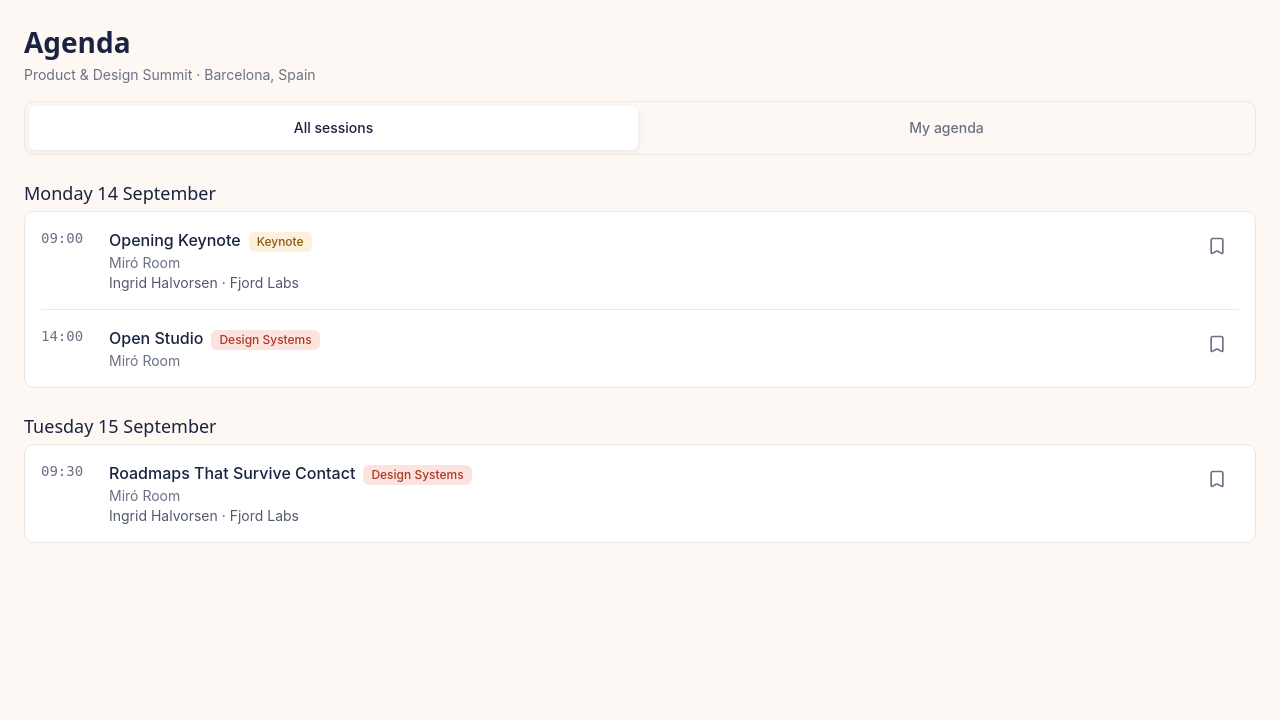
Test: the note status › IGNORES a stale response that arrives after a newer one (FR-214, T048)
Click the link "Opening Keynote" at (175, 240), box top-left (109, 230), bottom-right (241, 250)
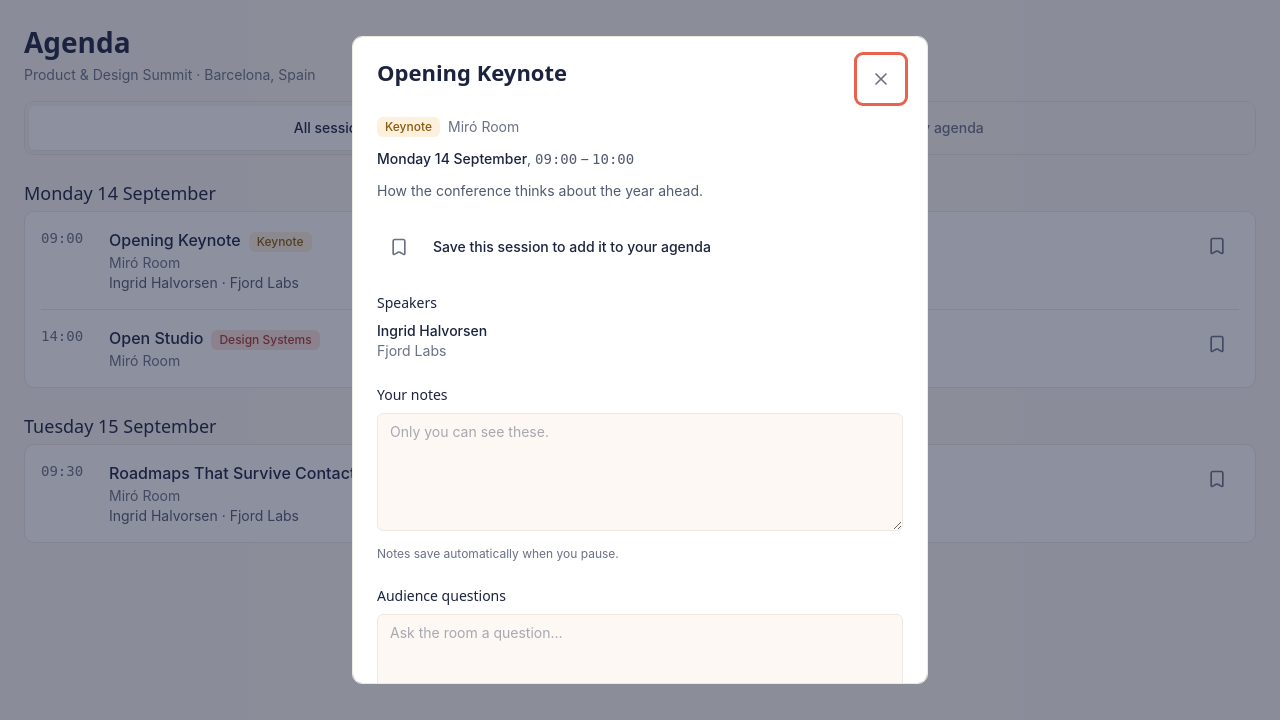
Expected: the heading "Opening Keynote" is shown, top-left (377, 57), bottom-right (567, 88)
Type "First version." into the text box named "private notes" at (640, 472), box top-left (377, 413), bottom-right (903, 531)
Wait 1300 ms
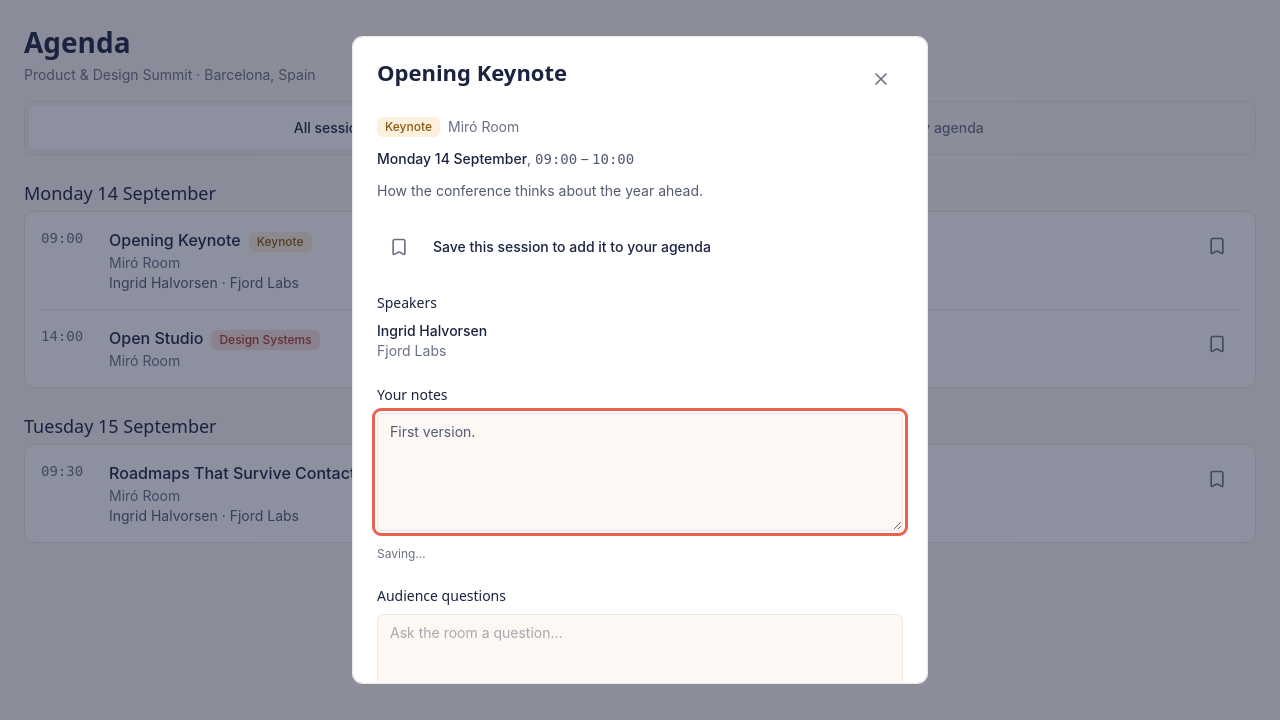
Type " Second version." into the text box named "private notes" at (640, 472), box top-left (377, 413), bottom-right (903, 531)
Wait 1300 ms
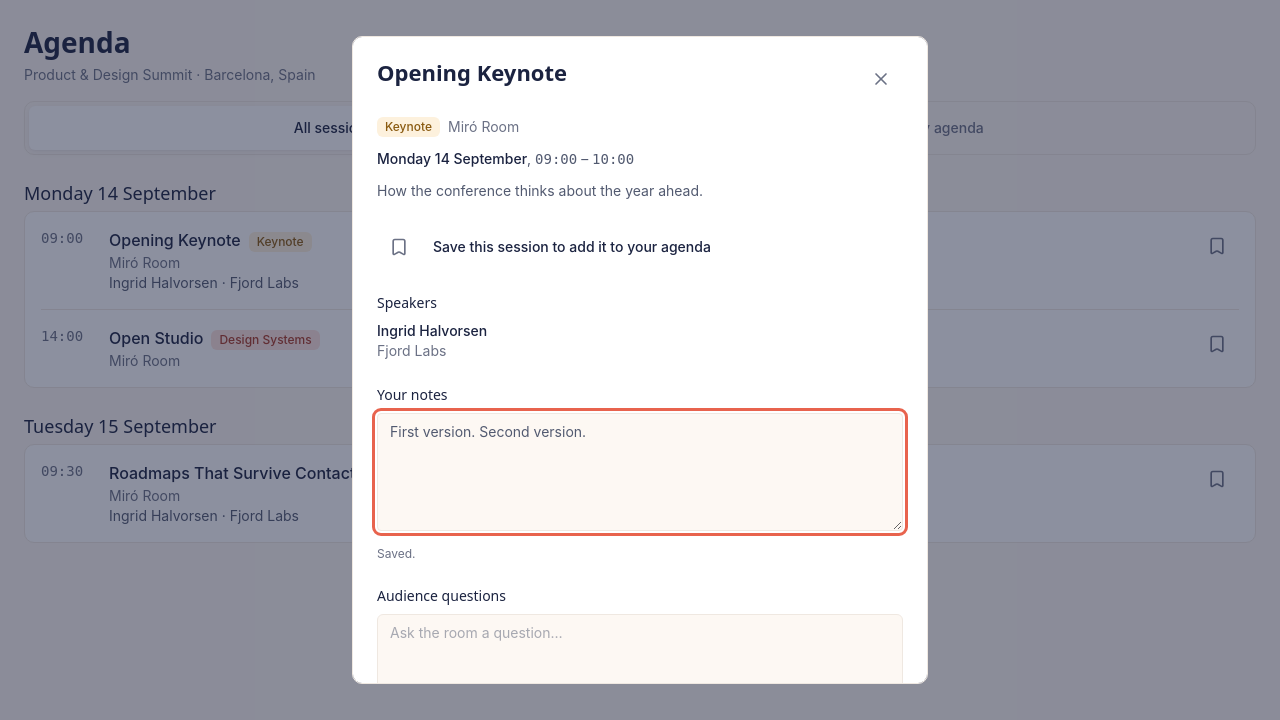
Expected: the message reads "Saved.", top-left (377, 546), bottom-right (416, 561)
Expected: the text box named "private notes" holds "First version. Second version.", top-left (377, 413), bottom-right (903, 531)
